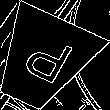P_SW: (11, 30, 73, 92)
